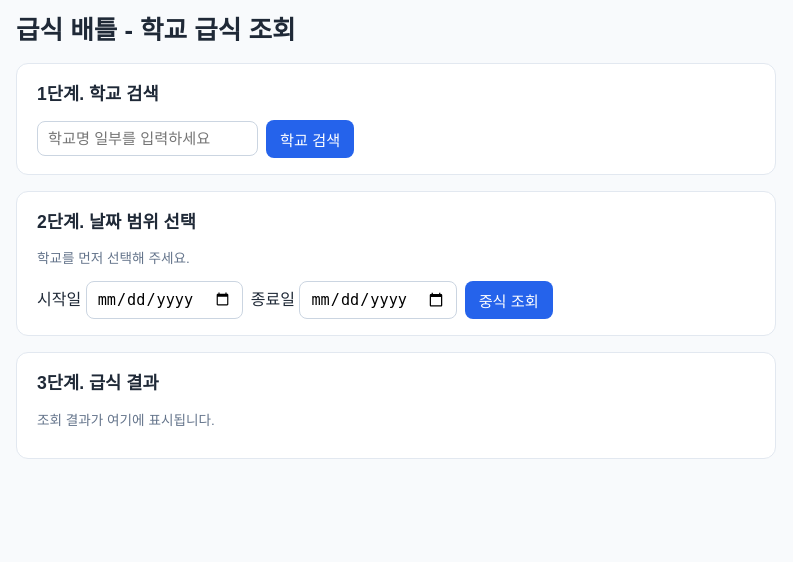
급식 배틀 앱 › 급식 정보가 없으면 데이터 없음 상태를 표시한다
Type "서울고" into the field named "학교명 검색어" at (148, 139), box [37, 121, 258, 156]
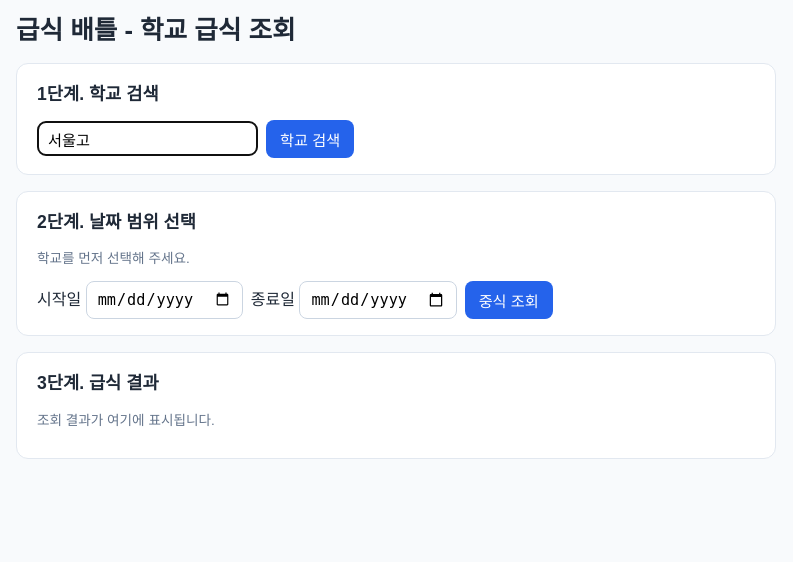
Click the button "학교 검색" at (310, 139), box [266, 120, 354, 158]
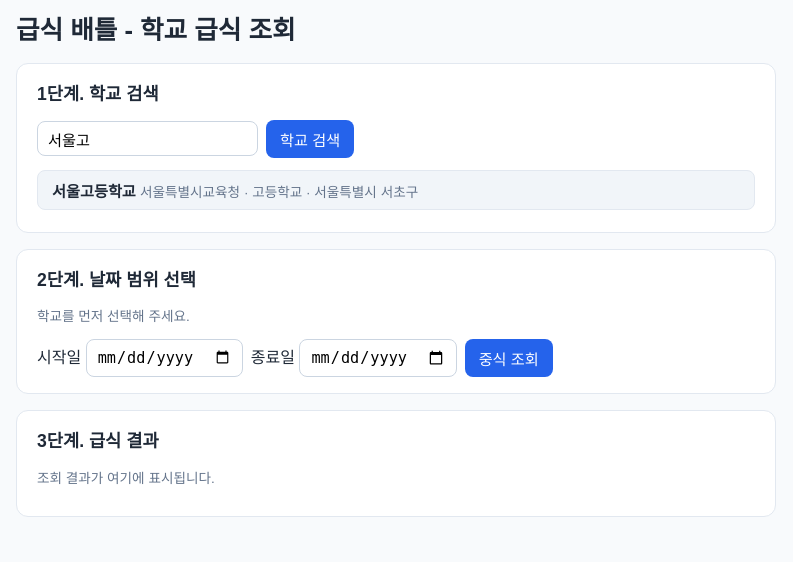
Click the button "서울고등학교 서울특별시교육청 · 고등학교 · 서울특별시 서초구" at (396, 190), box [37, 170, 755, 210]
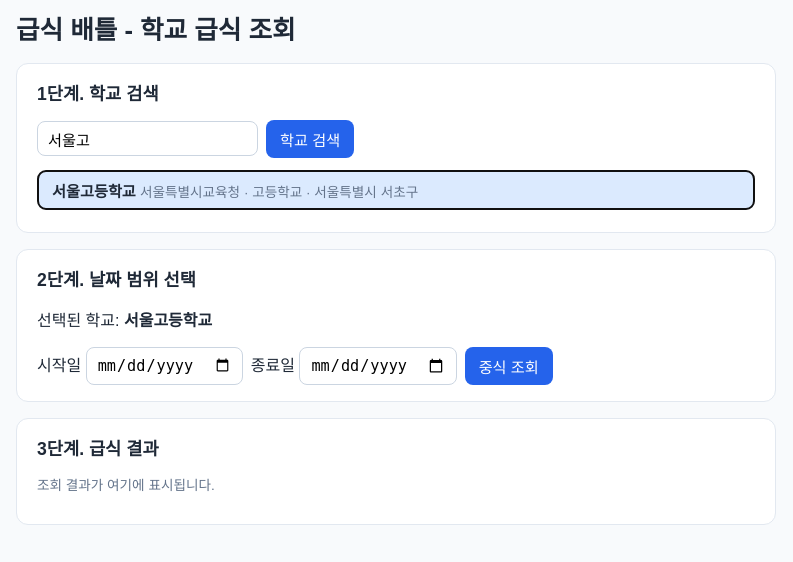
Type "2026-01-01" into the date field labelled "시작일" at (164, 366), box [86, 347, 243, 385]
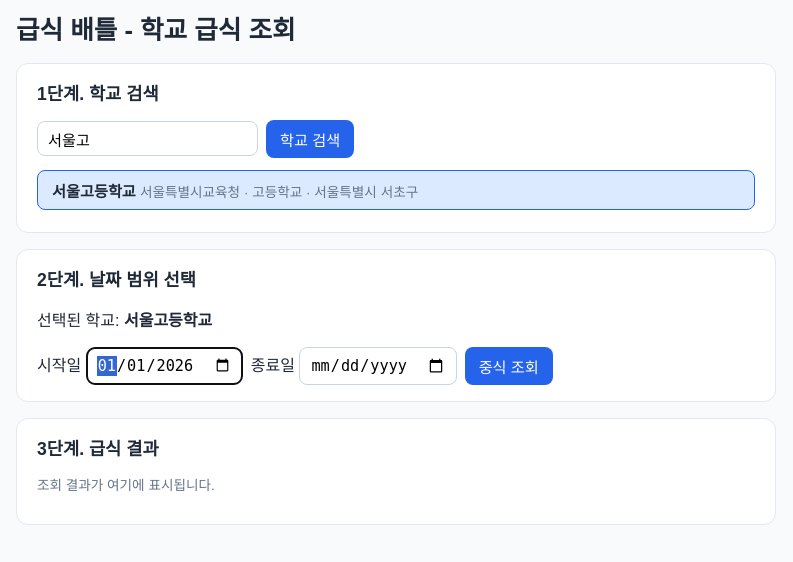
Type "2026-01-02" into the date field labelled "종료일" at (378, 366), box [299, 347, 457, 385]
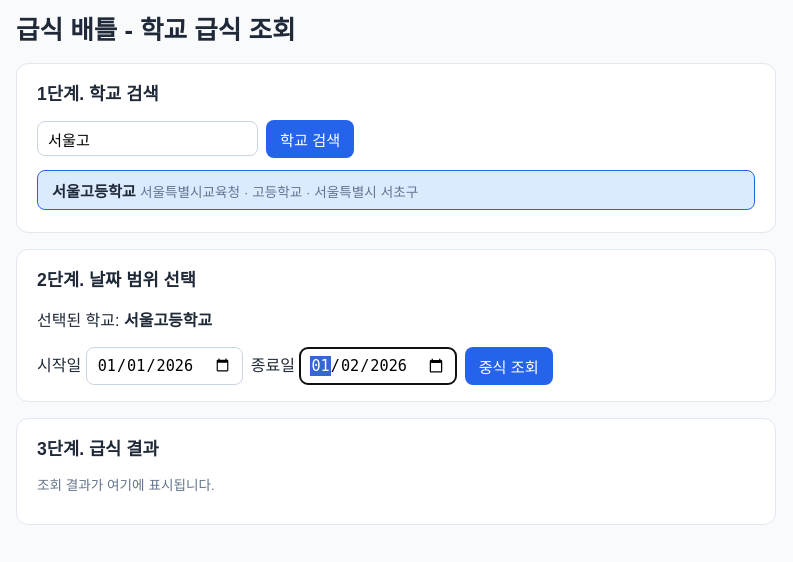
Click the button "중식 조회" at (509, 366), box [465, 347, 553, 385]
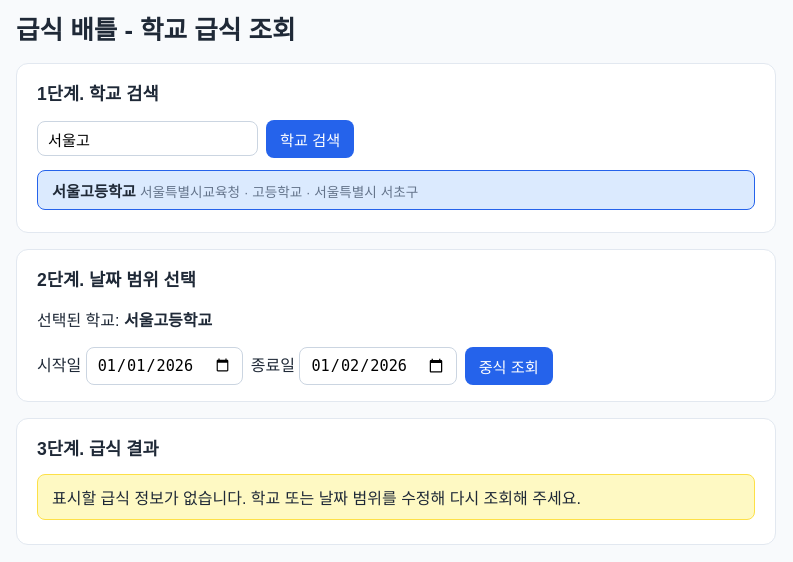
Result: the text "선택된 학교:" is shown at [37, 312, 124, 329]
Result: the text "표시할 급식 정보가 없습니다. 학교 또는 날짜 범위를 수정해 다시 조회해 주세요." is shown at [37, 474, 755, 520]
